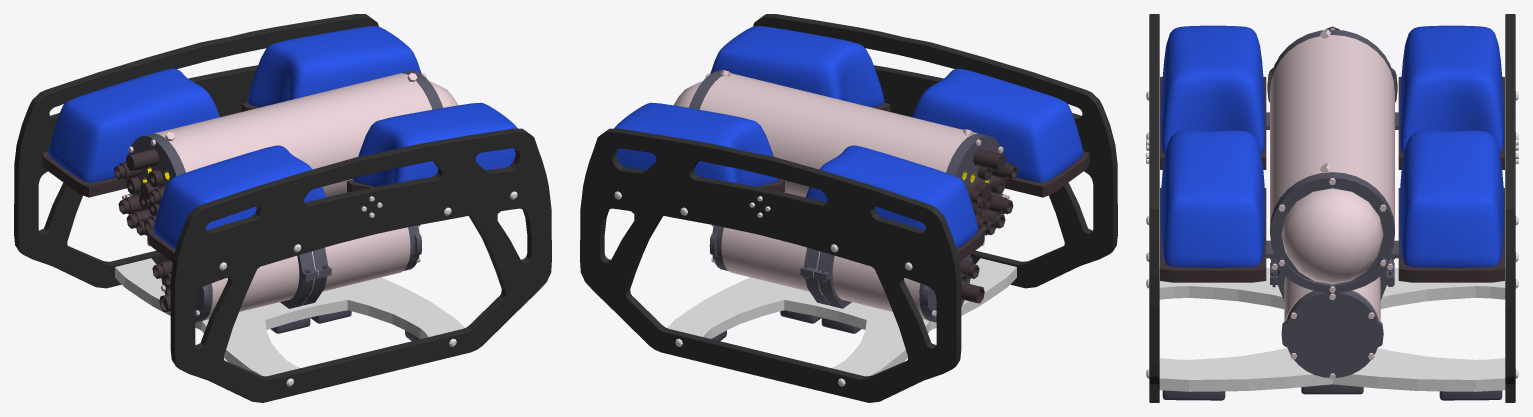
The model's file is bluerov2_chassis.visual.glb.
The picture shows the model from 3 angles, left to right: view 1: azimuth 30°, elevation 25°; view 2: azimuth 150°, elevation 25°; view 3: azimuth 270°, elevation 25°; orthographic projection. The views are drawn at different scales.
Parts seen in each view (by area): view 1: Frame.001; view 2: Frame.001; view 3: Frame.001.
Boxes of the visible parts, box(x1,y1,x2,y2) form: Frame.001: box(14, 14, 551, 402); Frame.001: box(580, 14, 1117, 402); Frame.001: box(1146, 14, 1518, 402).
Size of the model in its own units: 0.4571 by 0.2546 by 0.344.
6 materials, 1 textured.
